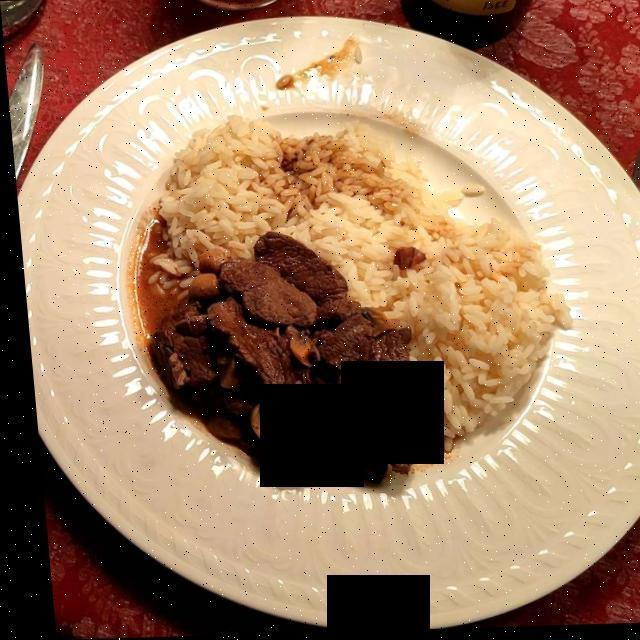rice: (145, 113, 559, 457)
